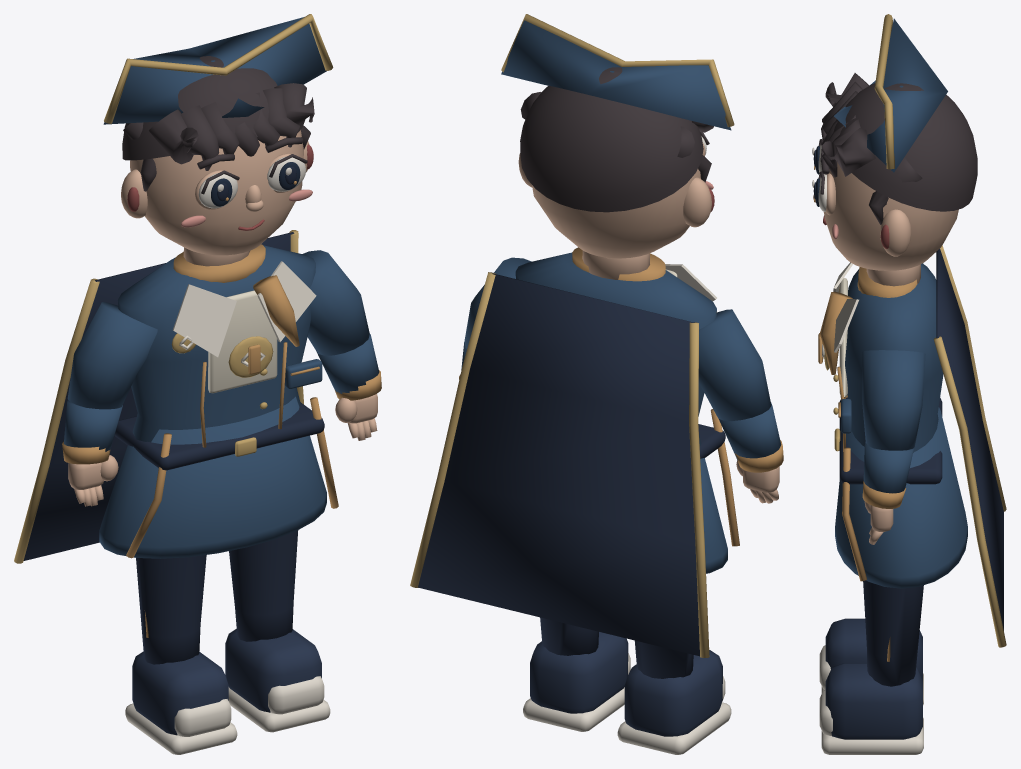
The model's file is npc_pirateshore_boss.glb.
The picture shows the model from 3 angles, left to right: view 1: azimuth 30°, elevation 25°; view 2: azimuth 150°, elevation 25°; view 3: azimuth 270°, elevation 25°; orthographic projection. The views are drawn at different scales.
Visible parts, largest first — view 1: figure.069; view 2: figure.069; view 3: figure.069.
Part boxes in pixels (box(x1,y1,x2,y2)): figure.069: box(14, 14, 381, 754); figure.069: box(410, 14, 783, 754); figure.069: box(812, 14, 1006, 754).
Bounding box in the file's own units: 0.8903 × 1.84 × 0.4891.
